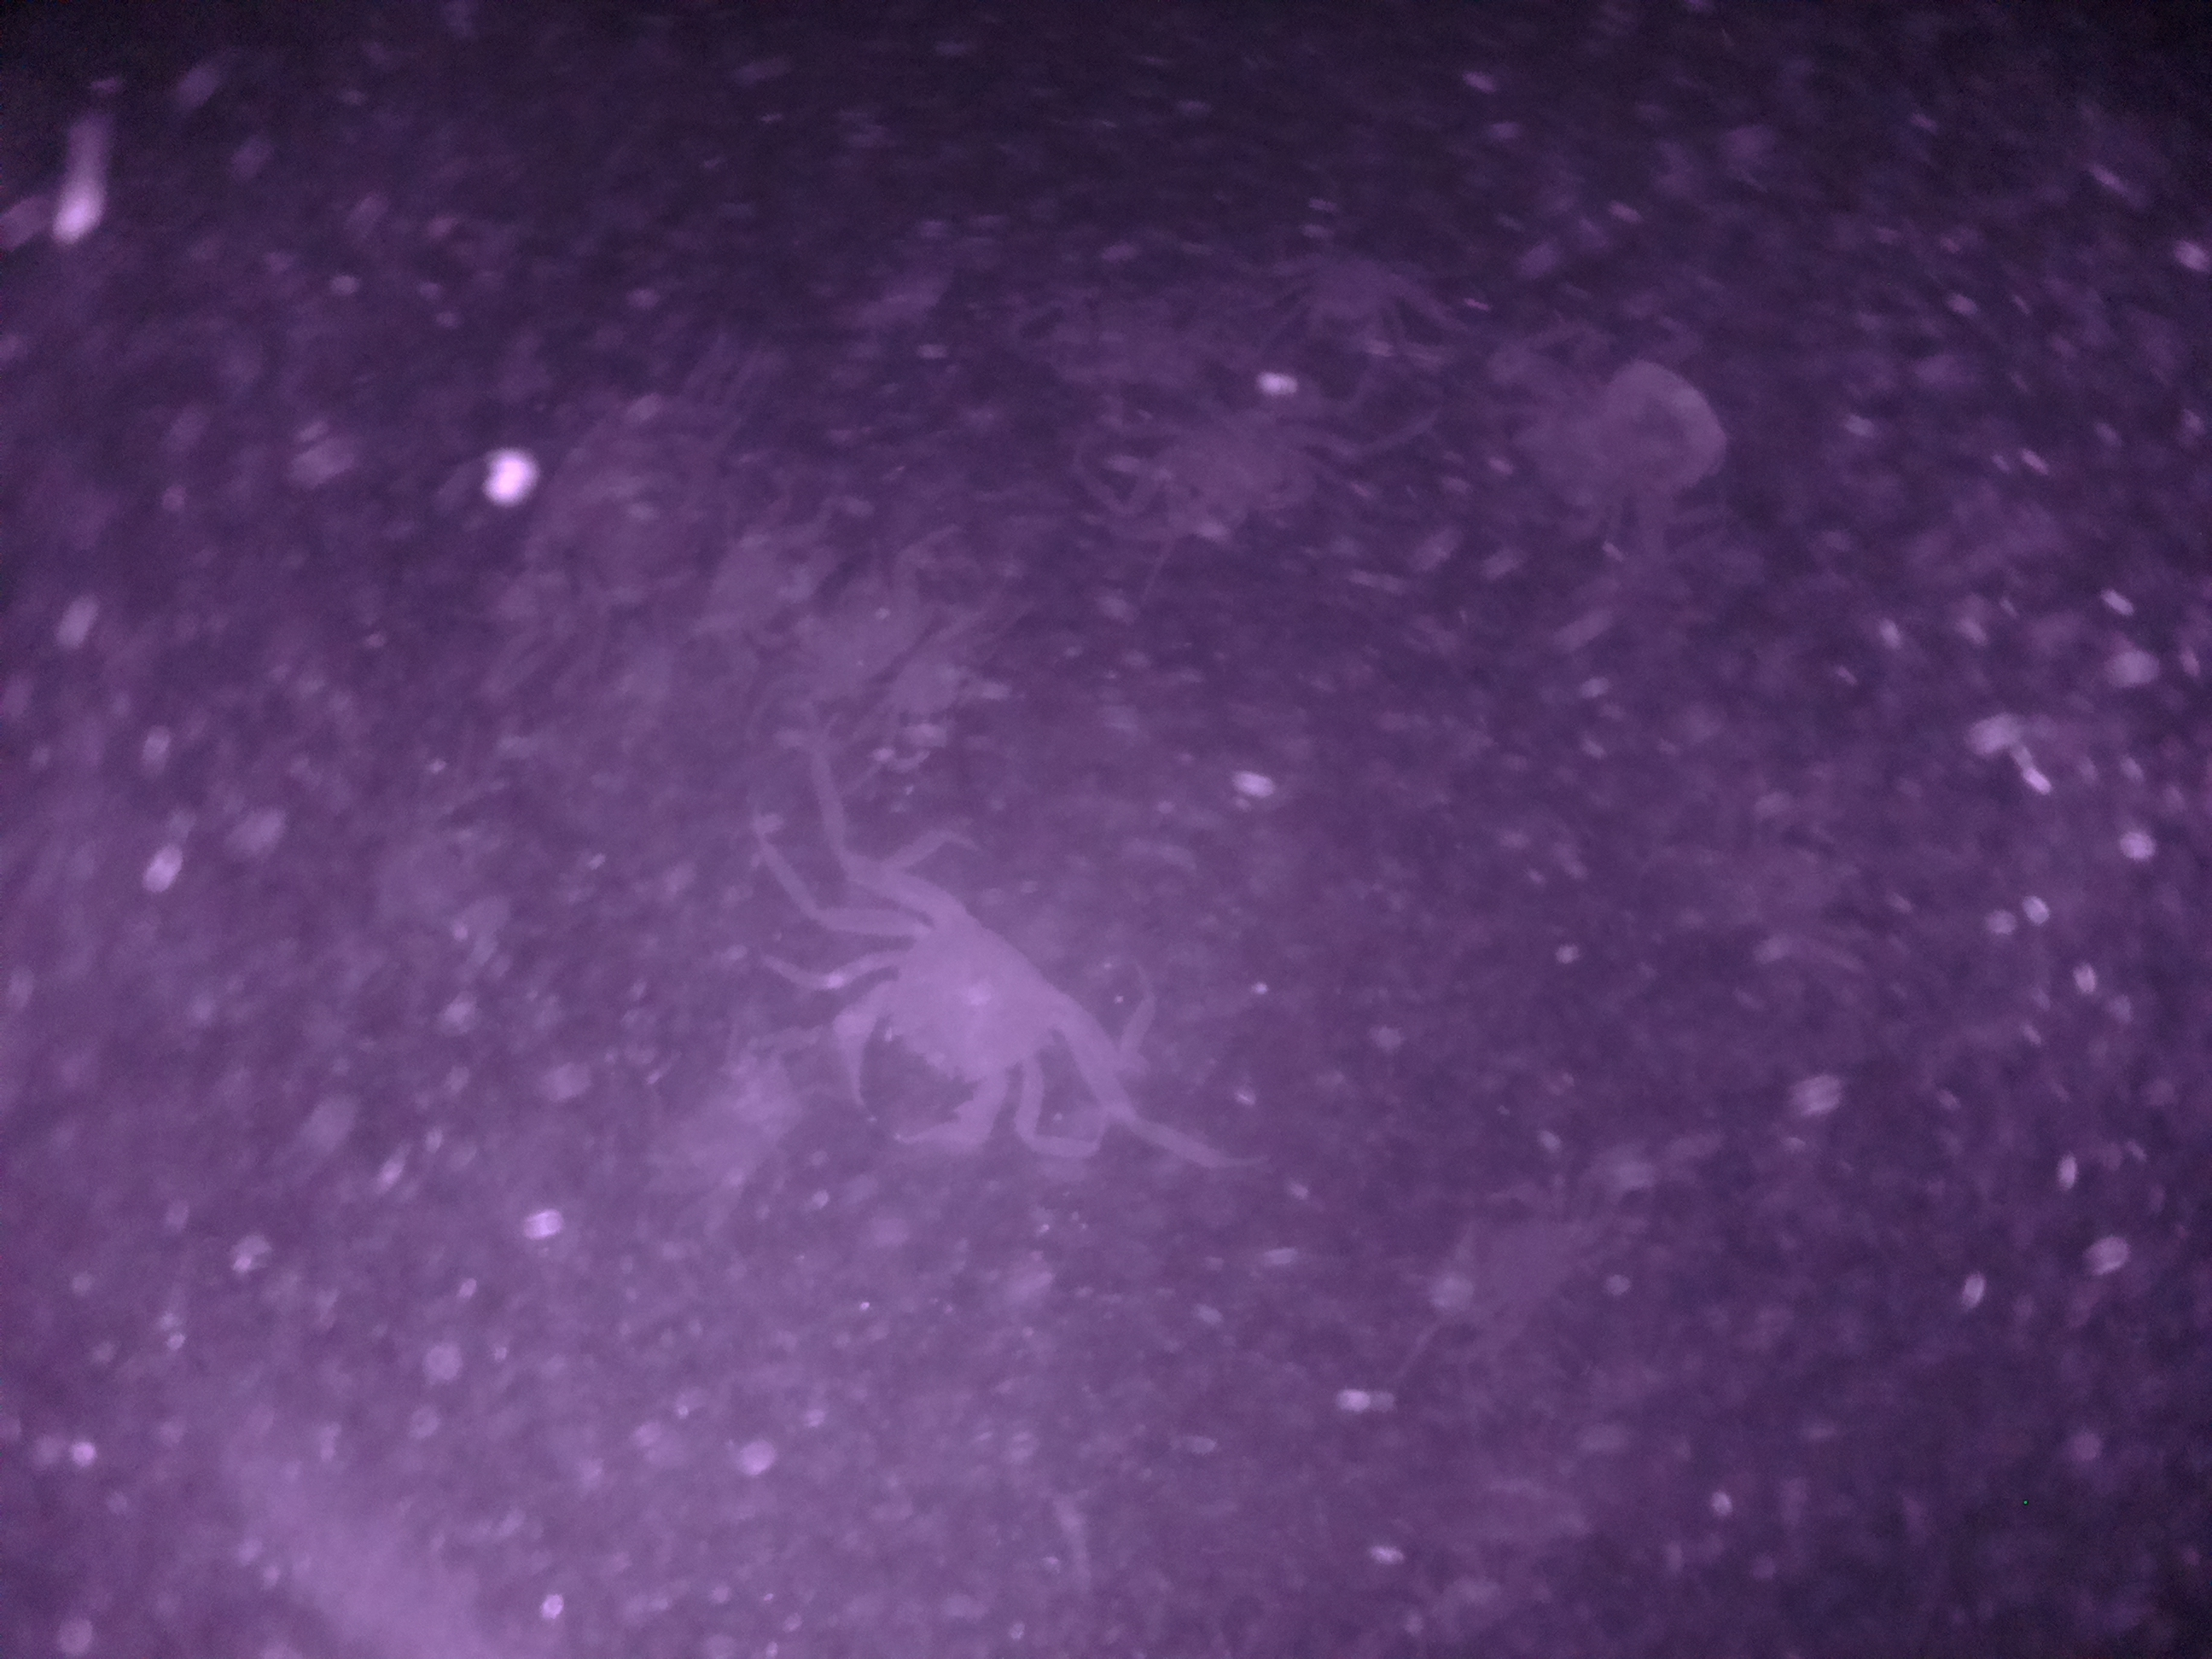Crab: (796, 847, 1109, 1157)
